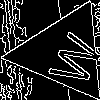W: (38, 27, 100, 89)
